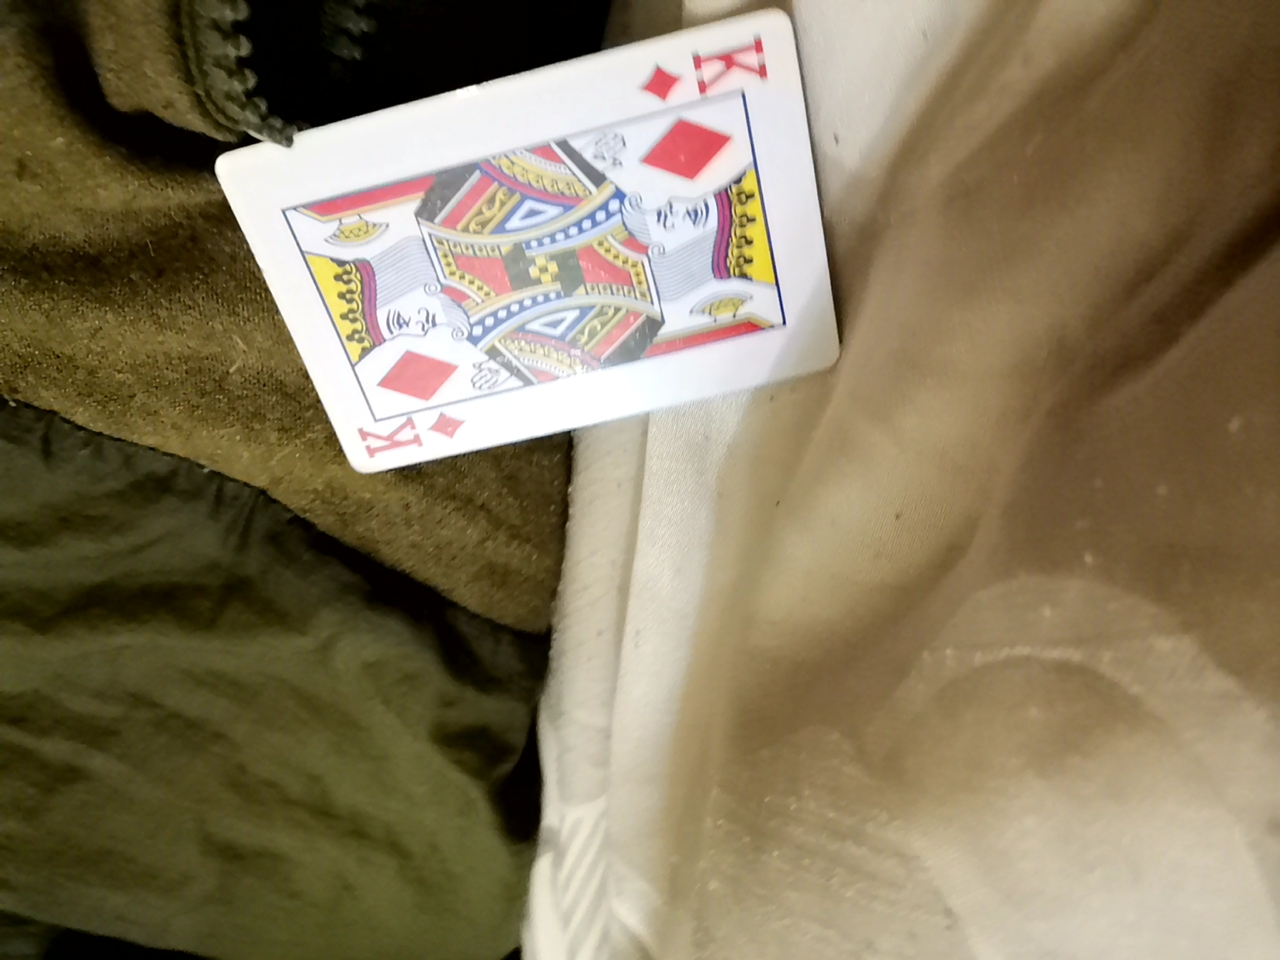fk k: (238, 119, 830, 554)
